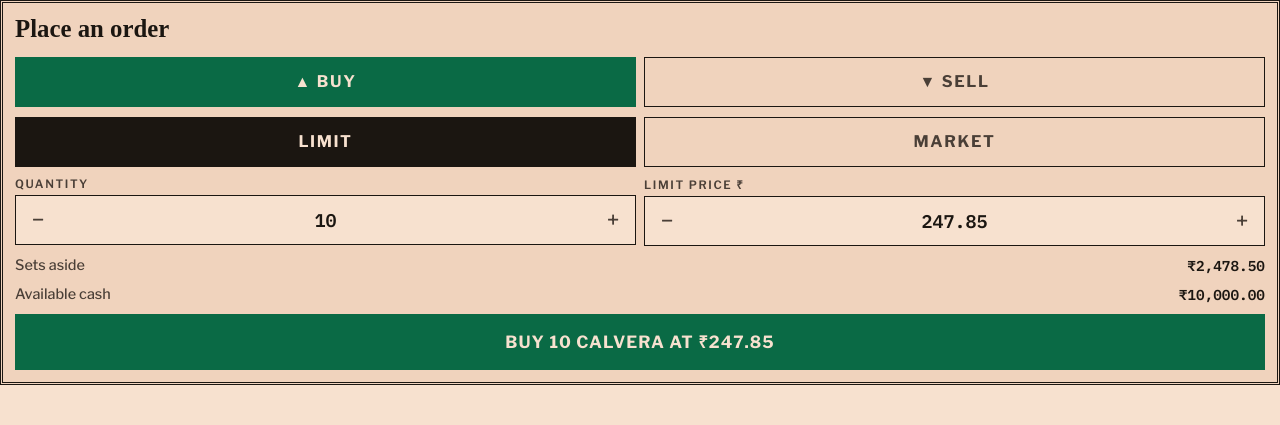
Scenario: the order ticket (paper theme) › explains a price off the 5-paise tick and sends nothing
Replace the text in the field labelled "Limit price ₹" with "247.83" at (954, 221), box [689,197,1220,245]
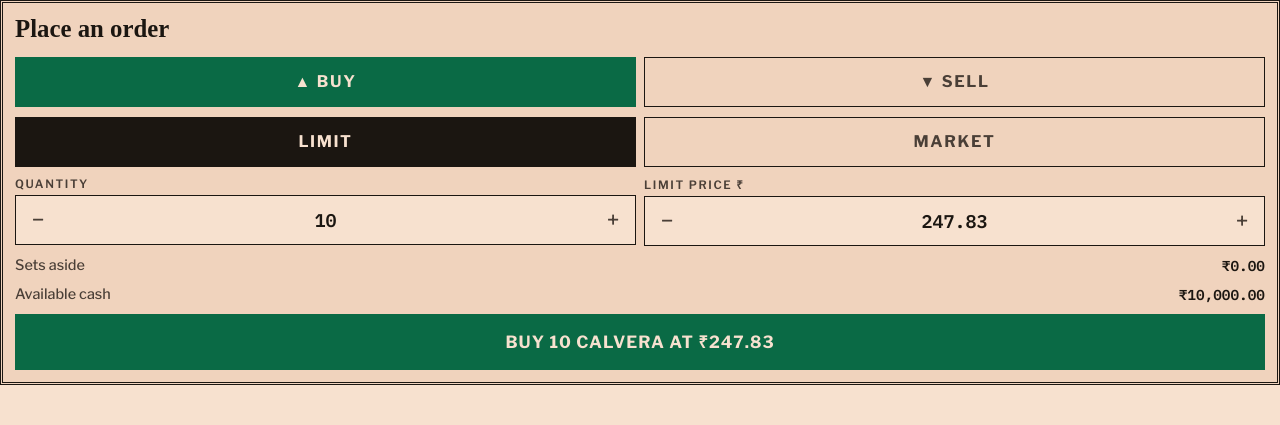
Click the button "BUY 10 CALVERA AT ₹247.83" at (640, 342), box [15,314,1265,370]
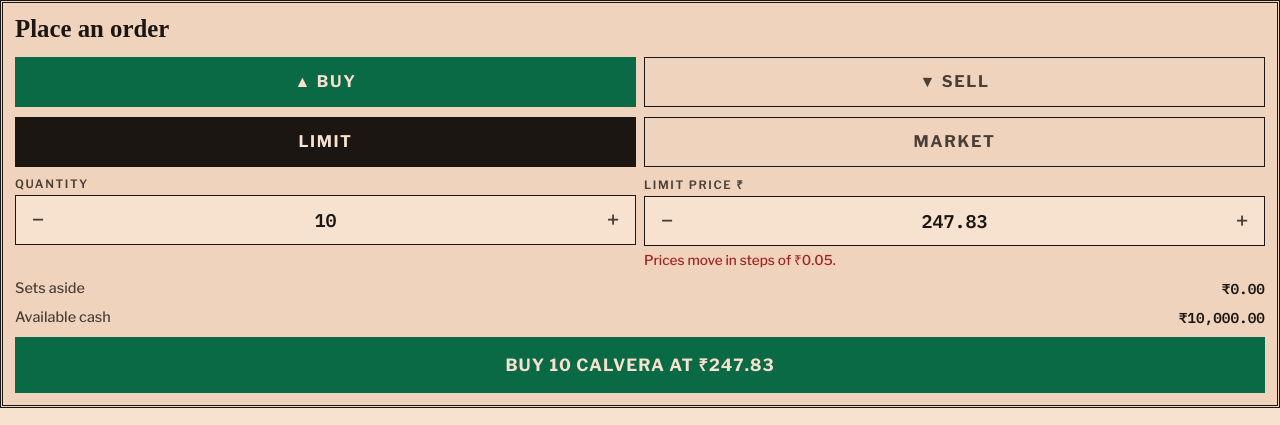
Now the message reads "Prices move in steps of ₹0.05.", box [644,252,836,268]
